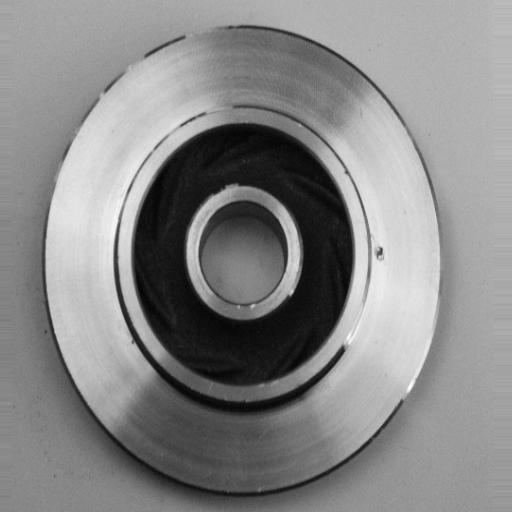crack: (363, 237, 394, 270)
scratch: (165, 11, 249, 48), (342, 298, 375, 357)
unpolished_casting: (42, 22, 442, 497)
